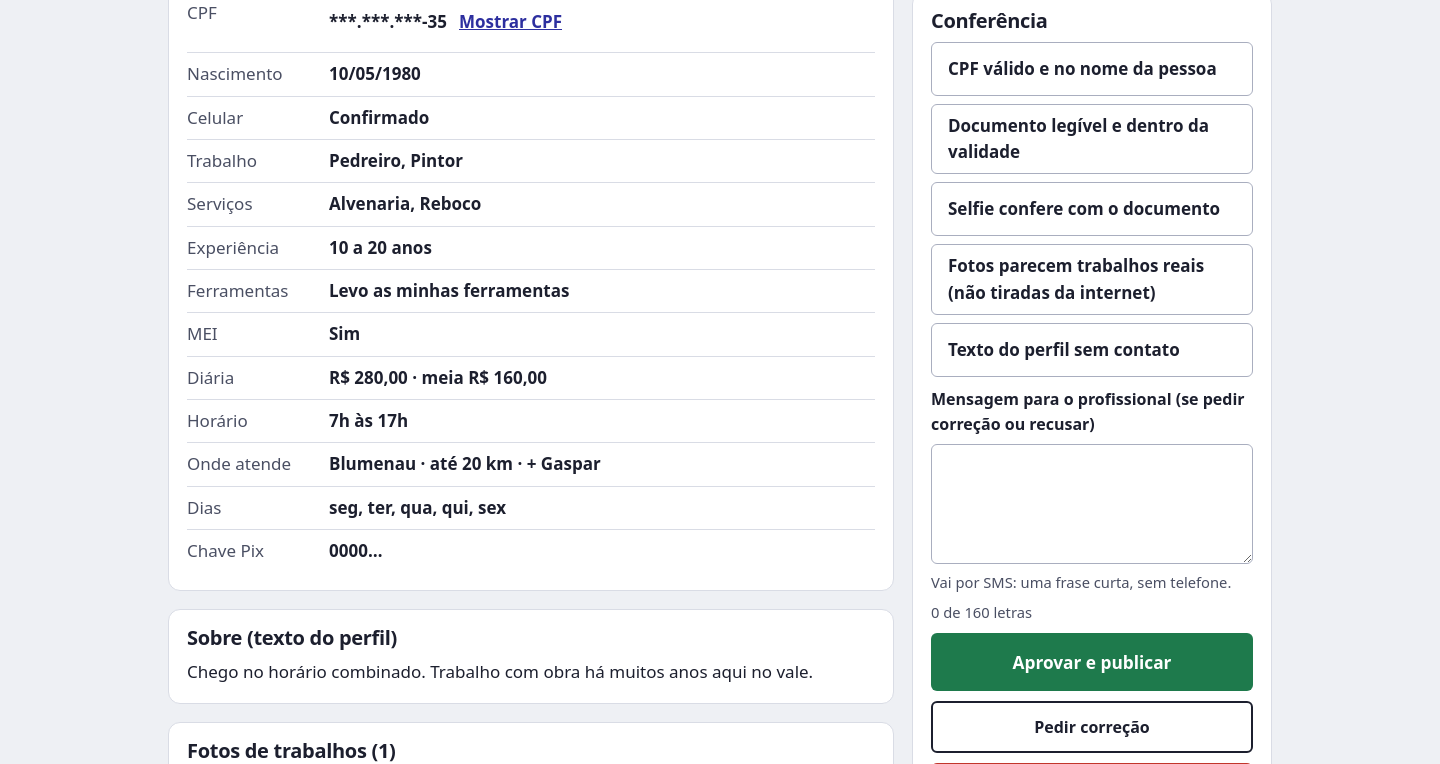
Test case: /admin/verificacao/:id: conferir e decidir › pedir correção: exige a mensagem e manda o motivo
(page scrolled)
Click the button "Pedir correção".
click(1092, 728)  # box [931,702,1253,754]
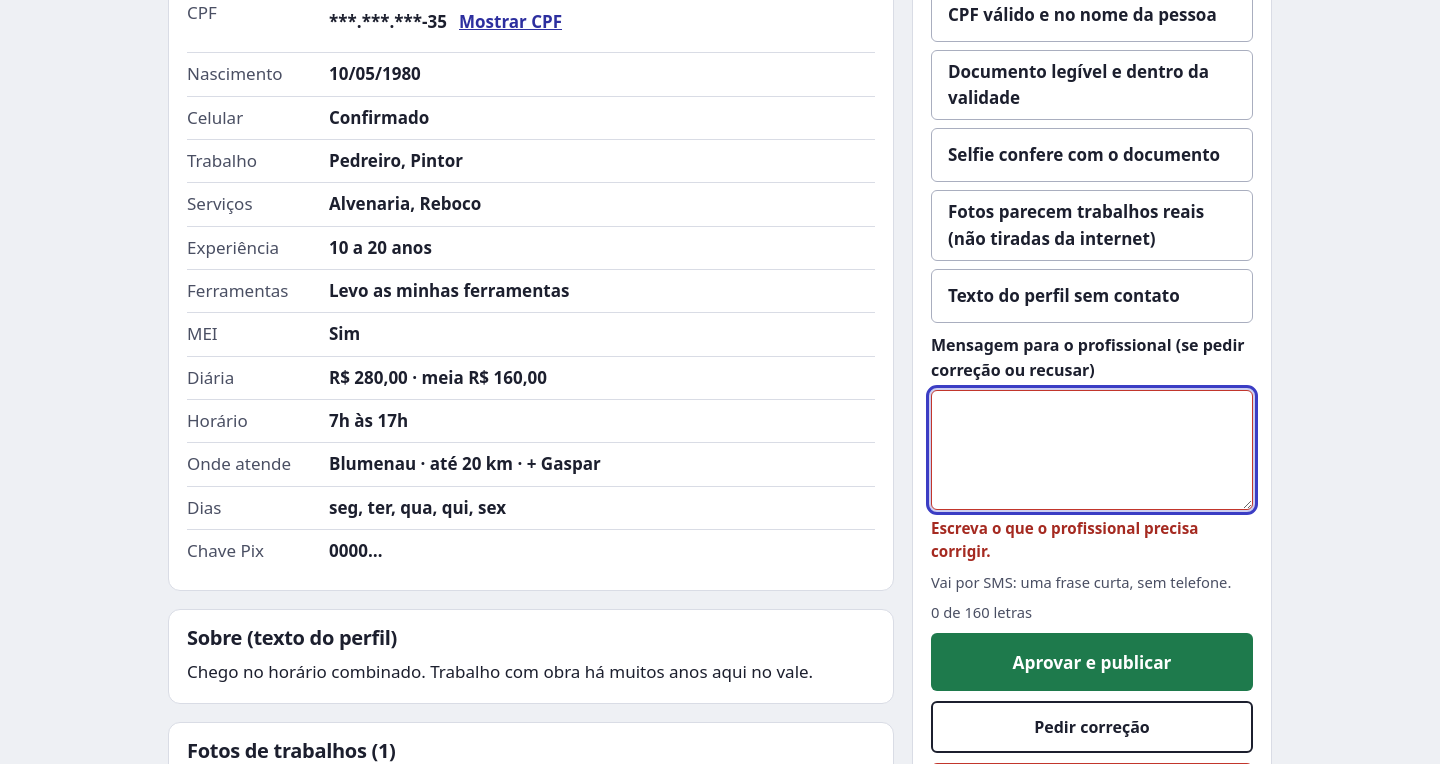
Type "A selfie está escura." into the text box labelled "Mensagem para o profissional (se pedir correção ou recusar)".
click(1092, 450); type("A selfie está escura.")  # box [931,390,1253,510]
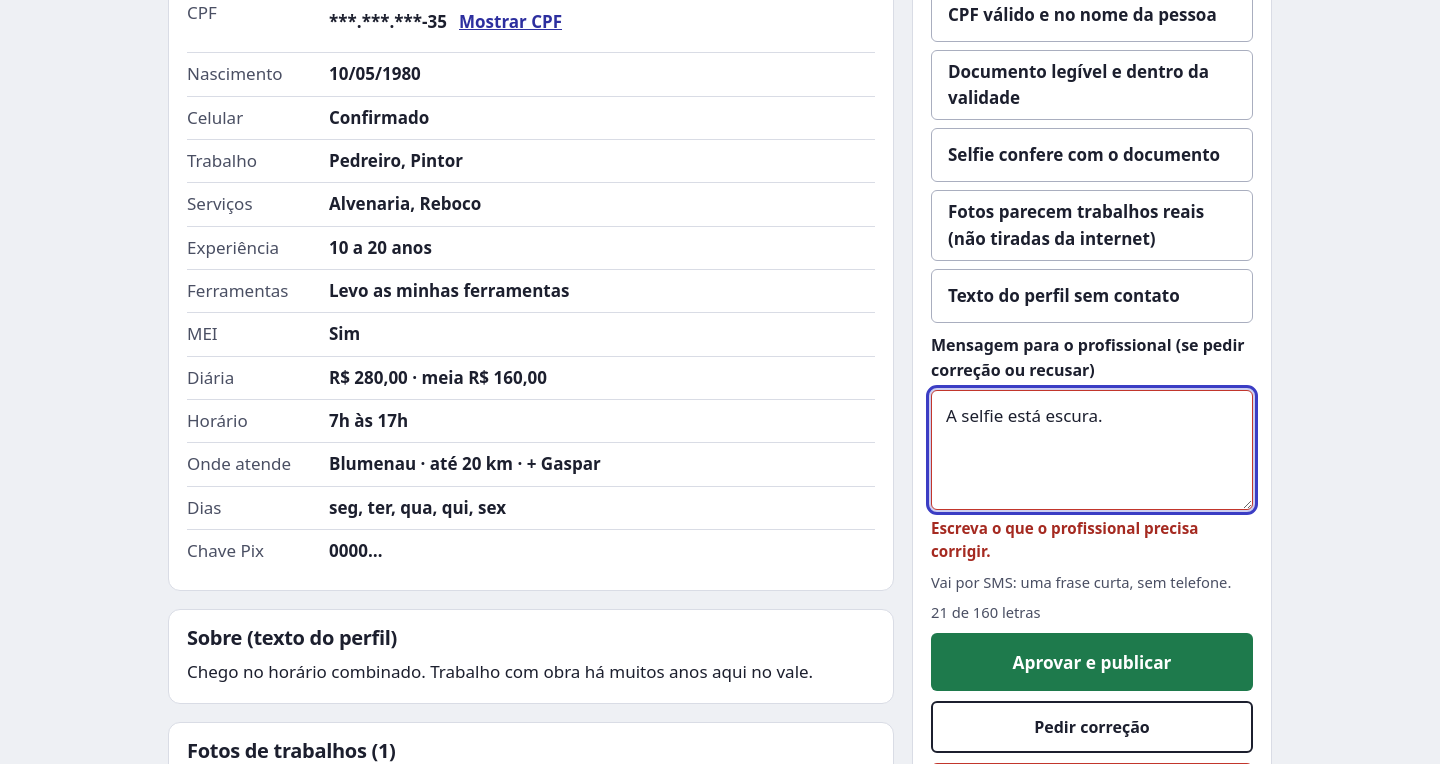
Click the button "Pedir correção".
click(1092, 728)  # box [931,702,1253,754]
(page scrolled)
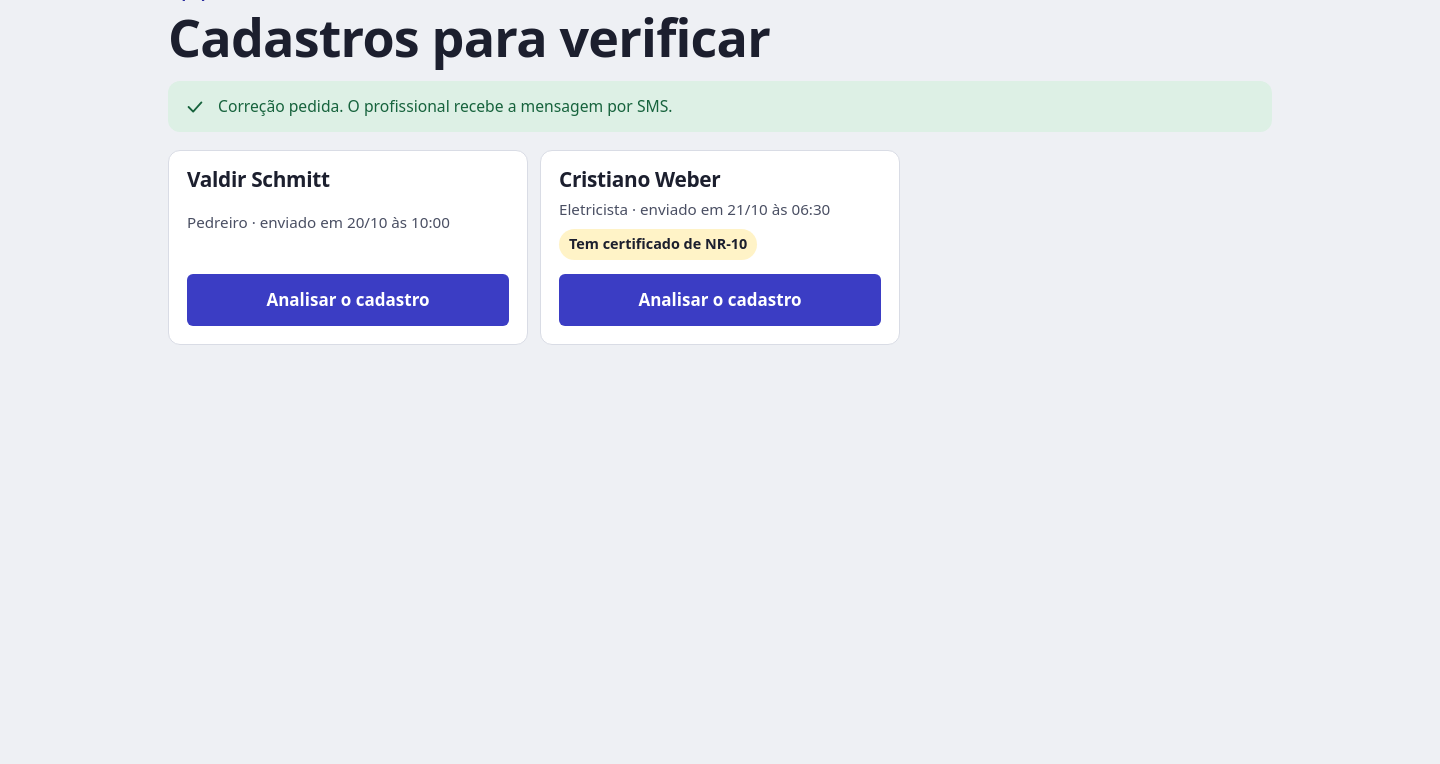
Now the text "Correção pedida. O profissional recebe a mensagem por SMS." is shown, box [218,95,672,117]
